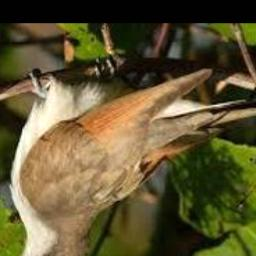Cuckoo: (0, 68, 217, 256)
